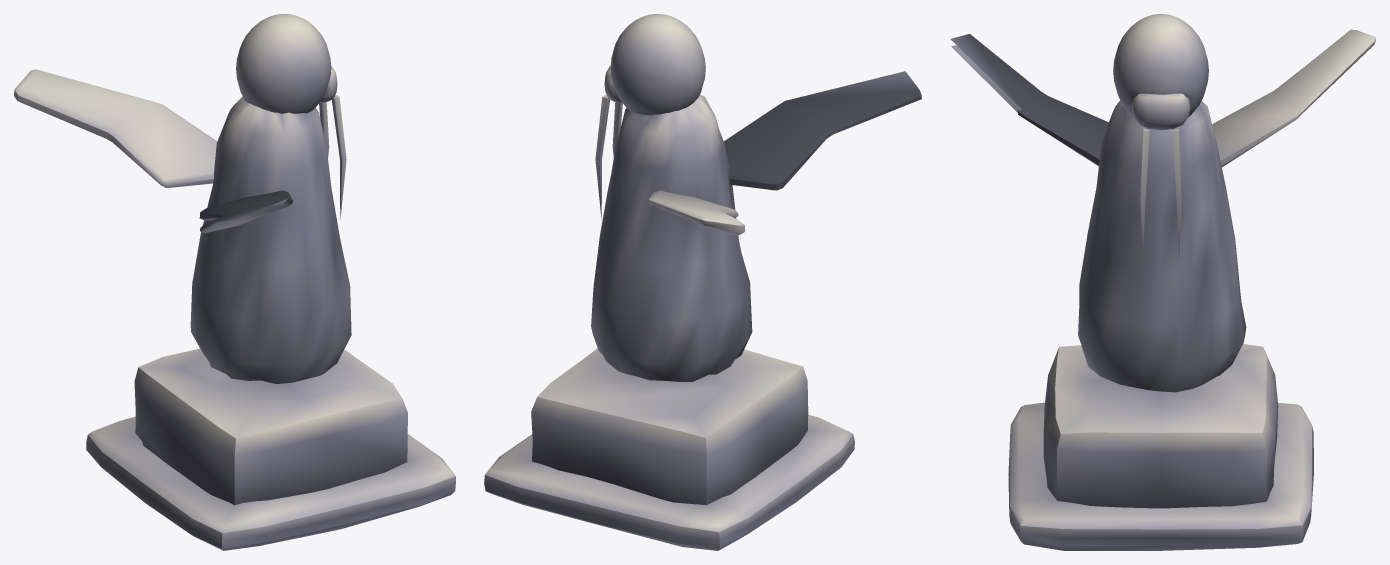
The model's file is statue.glb.
The picture shows the model from 3 angles, left to right: view 1: azimuth 30°, elevation 25°; view 2: azimuth 150°, elevation 25°; view 3: azimuth 270°, elevation 25°; orthographic projection. The views are drawn at different scales.
Parts seen in each view (by area): view 1: statue; view 2: statue; view 3: statue.
Boxes of the visible parts, box(x1,y1,x2,y2) form: statue: box(14, 14, 455, 550); statue: box(484, 14, 921, 550); statue: box(950, 14, 1375, 550).
Bounding box in the file's own units: 1.94 × 2.95 × 2.36.
